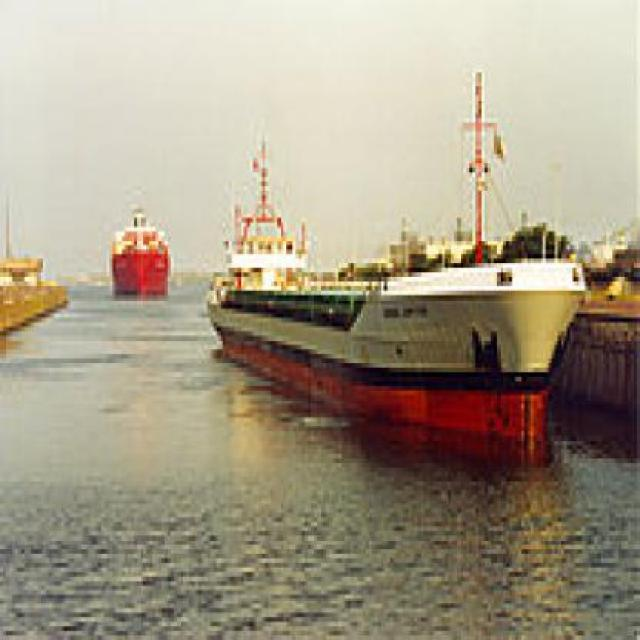container: (199, 59, 596, 455), (98, 192, 178, 313)
